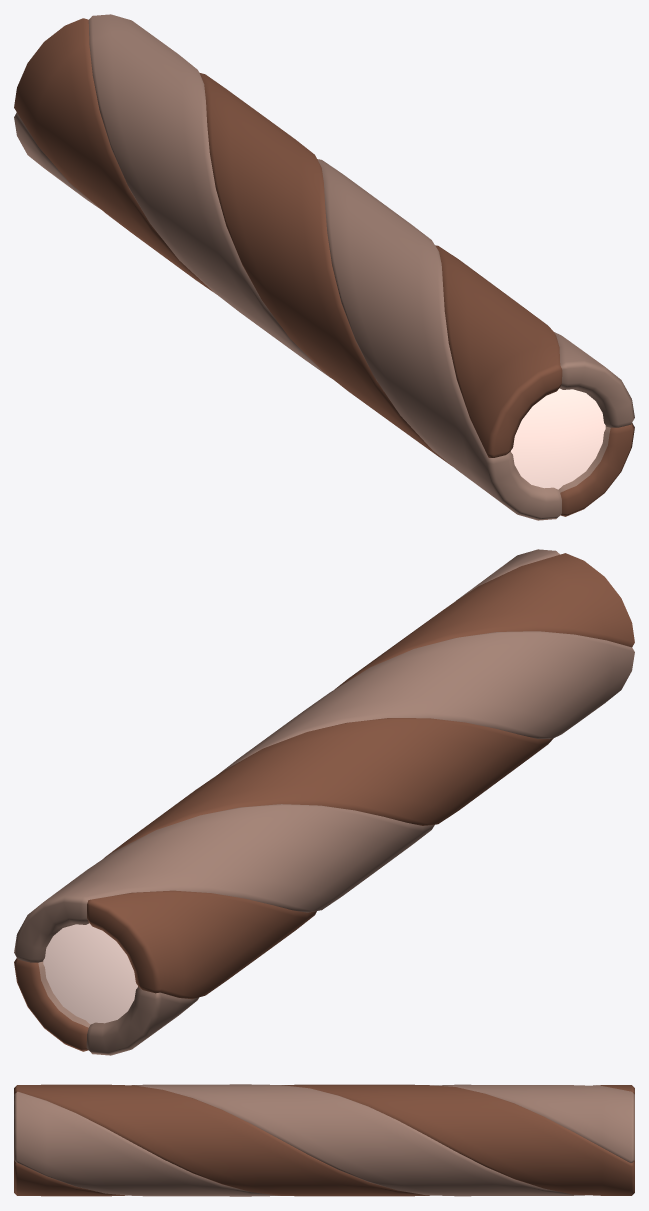
File: Cake_03.glb
3 renders of one model, top to bottom at view 1: azimuth 30°, elevation 25°; view 2: azimuth 150°, elevation 25°; view 3: azimuth 270°, elevation 25°, orthographic. The views are drawn at different scales.
Visible parts, largest first — view 1: Cake_03; view 2: Cake_03; view 3: Cake_03.
Part boxes in pixels (x1=…): Cake_03: x1=14, y1=14, x2=634, y2=520; Cake_03: x1=14, y1=549, x2=634, y2=1055; Cake_03: x1=14, y1=1084, x2=634, y2=1196.
Bounding box in the file's own units: 2 × 2 × 11.09.
2 materials, 2 textured.
